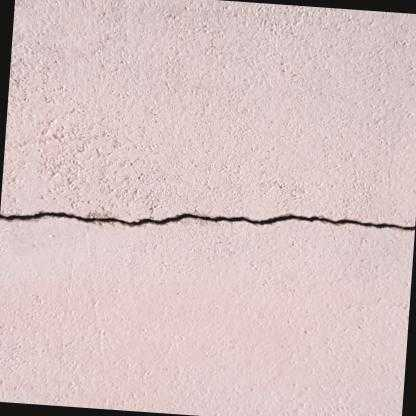crack: (0, 211, 415, 230)
